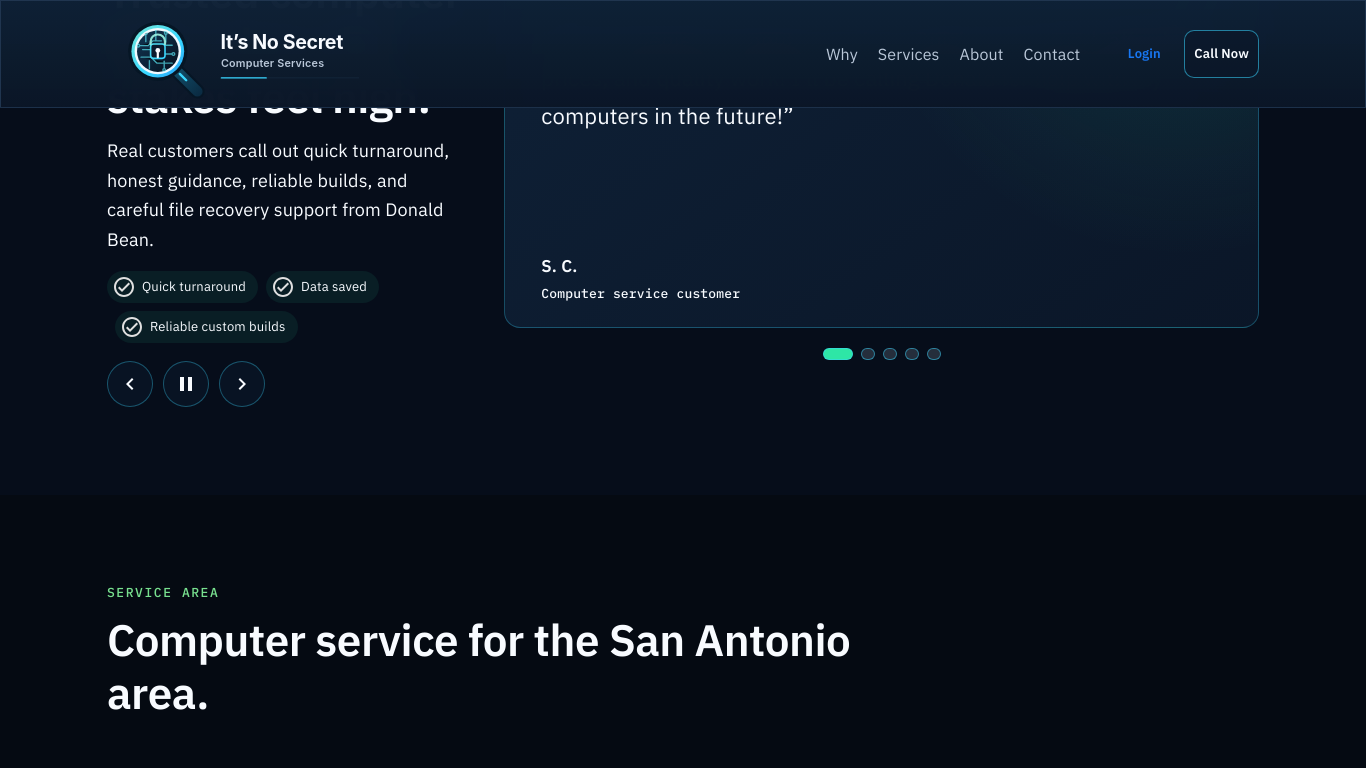
Scenario: It’s No Secret marketing site › shows an accessible testimonial carousel with real customer controls and indicators
The image size is (1366, 768).
(page scrolled)
Expected: the text "quick turn-around, affordable prices, and quality work" is shown, [541, 25, 1211, 130]
Expected: the button named "previous testimonial" is shown, [107, 361, 153, 407]
Step 1. Click the button named "next testimonial" → (242, 384), box [219, 361, 265, 407]
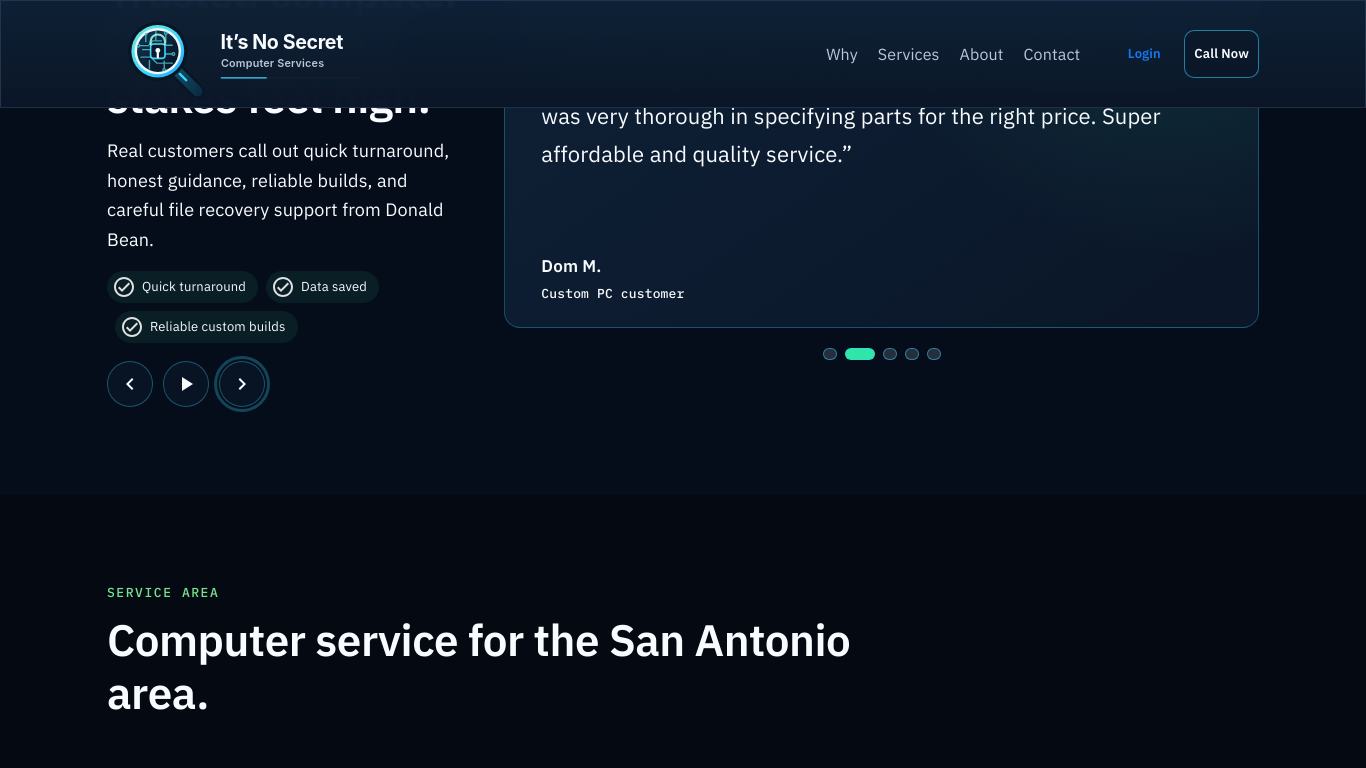
Now the text "Donald has built all of my machines in the last 15 years" is shown, box [541, 25, 1189, 168]
